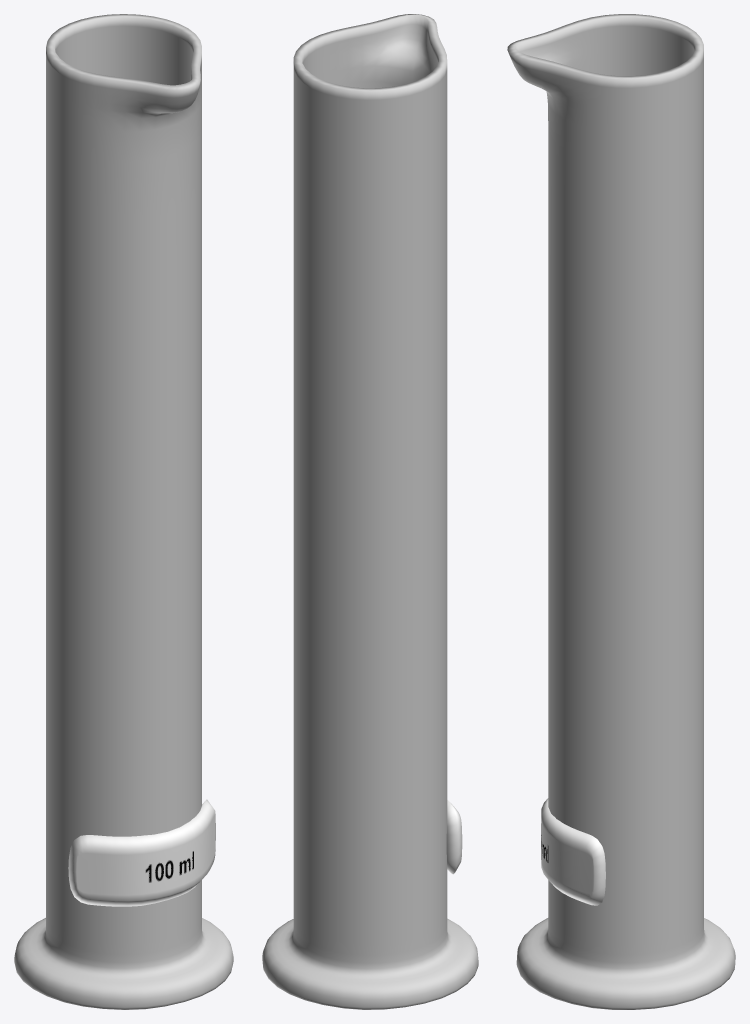
The model's file is Gelas ukur 100.fbx.
3 views of the same model, side by side, from view 1: azimuth 30°, elevation 25°; view 2: azimuth 150°, elevation 25°; view 3: azimuth 270°, elevation 25° (orthographic).
Visible parts, largest first — view 1: Cube.054, Cube.102; view 2: Cube.054, Cube.102; view 3: Cube.054, Cube.102.
Boxes of the visible parts, <box> form: Cube.054: <box>14,14,233,1009</box>; Cube.102: <box>68,799,215,906</box>; Cube.054: <box>262,14,478,1009</box>; Cube.102: <box>446,800,462,874</box>; Cube.054: <box>507,14,735,1009</box>; Cube.102: <box>541,798,605,905</box>.
Size of the model in its own units: 2.62 by 12.18 by 2.73.
Materials: 2 (1 with a texture image).
